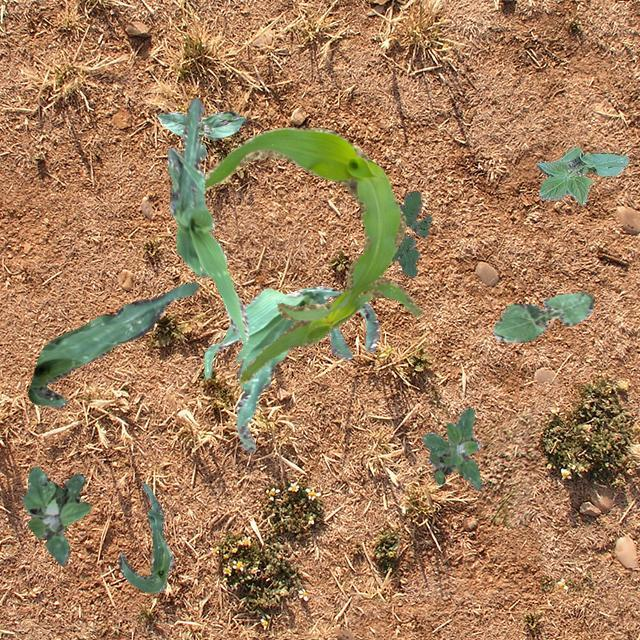crop: (202, 125, 422, 382), (202, 284, 378, 450), (26, 280, 198, 406), (166, 98, 246, 342), (118, 482, 172, 592), (536, 146, 628, 204), (492, 292, 594, 342), (156, 110, 246, 138)
weed: (20, 466, 90, 566), (422, 406, 482, 488), (390, 190, 430, 276)
